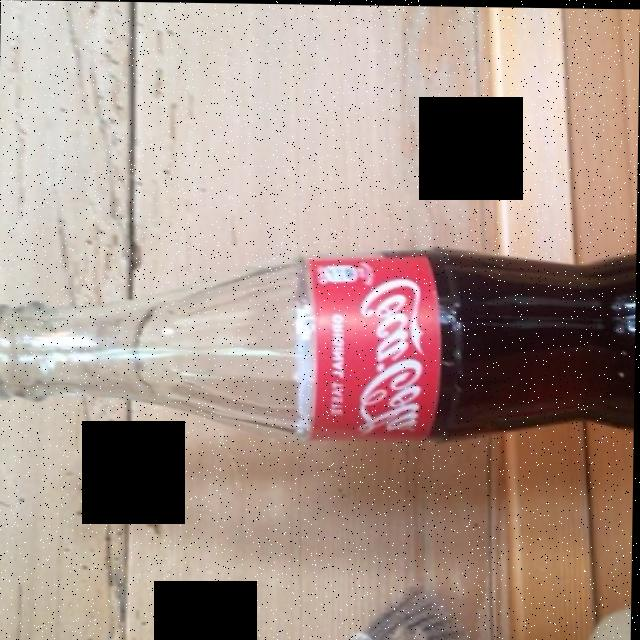coca-cola: (294, 250, 625, 443)
